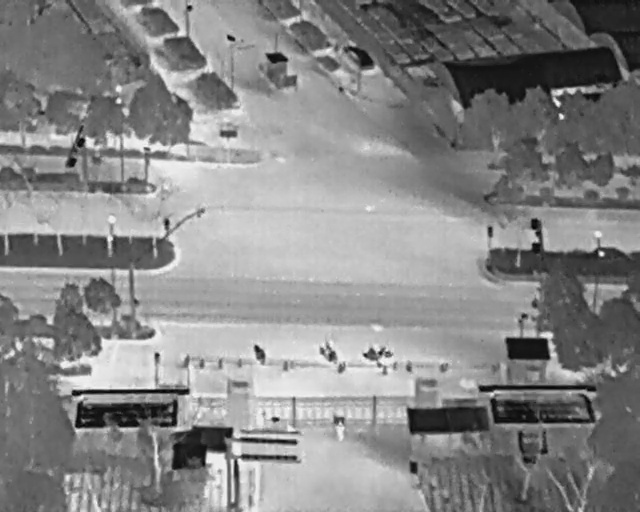Bicycle: (311, 336, 345, 368), (361, 344, 393, 361)
Car: (343, 36, 378, 76)
Person: (335, 420, 344, 441)
